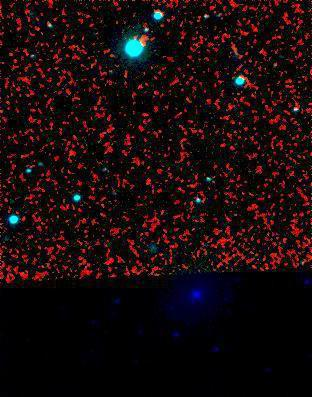star: (120, 34, 150, 64)
